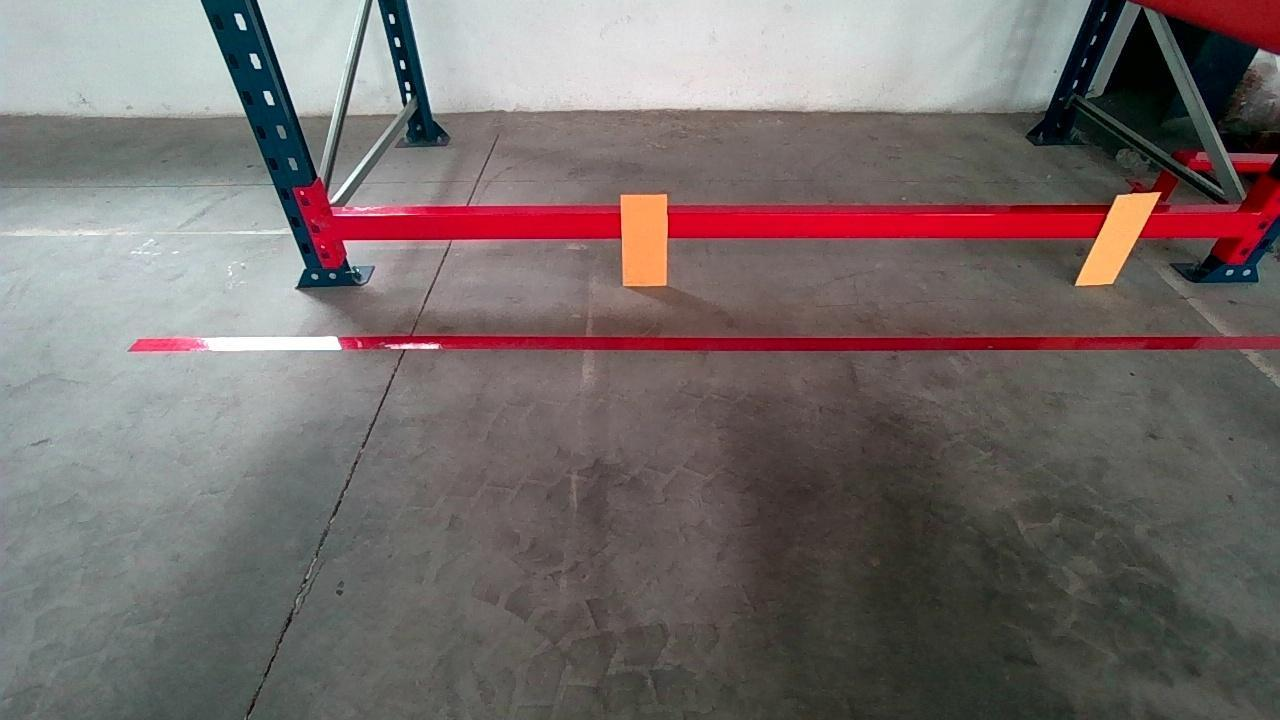h_rack: (334, 200, 1248, 240)
orange_strip: (1076, 192, 1160, 284), (621, 192, 669, 286)
red_line: (138, 328, 1273, 355)
